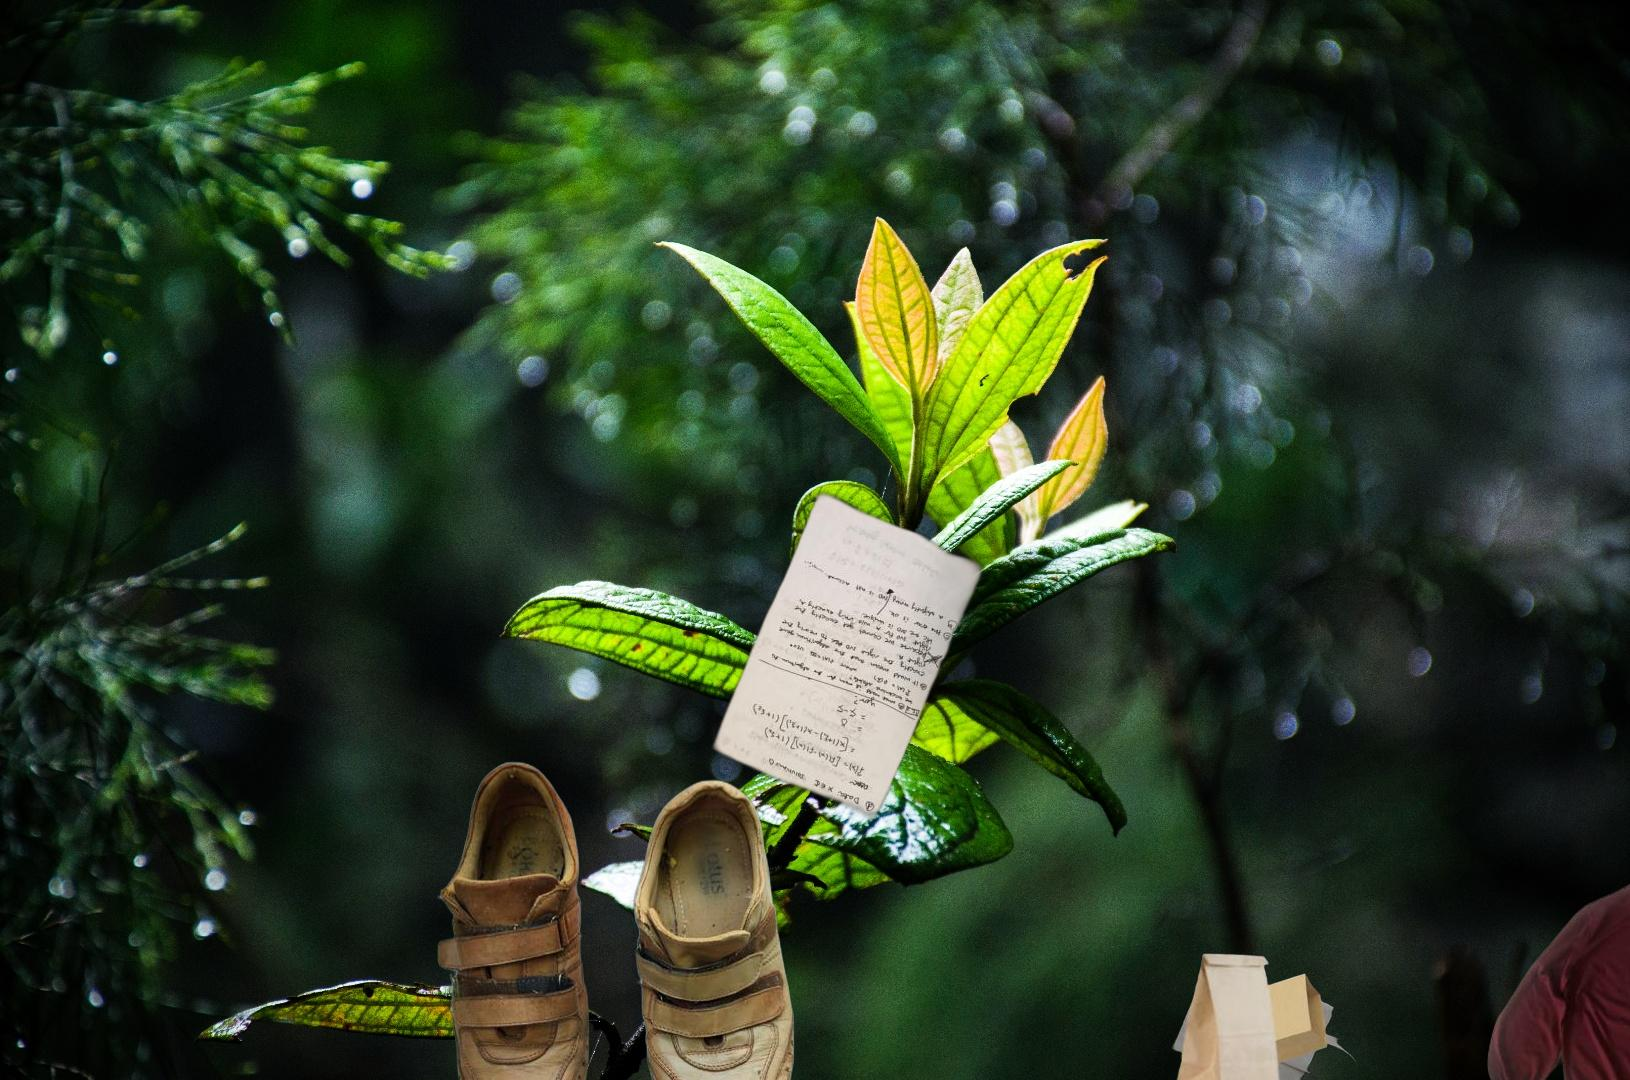clothes: (1481, 871, 1630, 1080)
paper: (705, 485, 987, 824)
paper-bag: (1166, 950, 1366, 1080)
shoes: (434, 757, 798, 1080)
